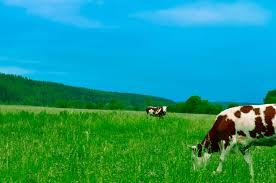cow: (187, 104, 276, 179), (145, 105, 169, 118)
